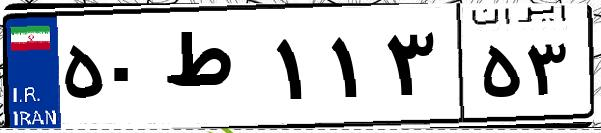0: (110, 28, 158, 98)
1: (270, 28, 330, 110), (330, 28, 385, 110)
3: (385, 28, 445, 110), (525, 38, 570, 115)
5: (57, 26, 110, 100), (475, 38, 525, 113)
ط: (158, 20, 270, 120)
